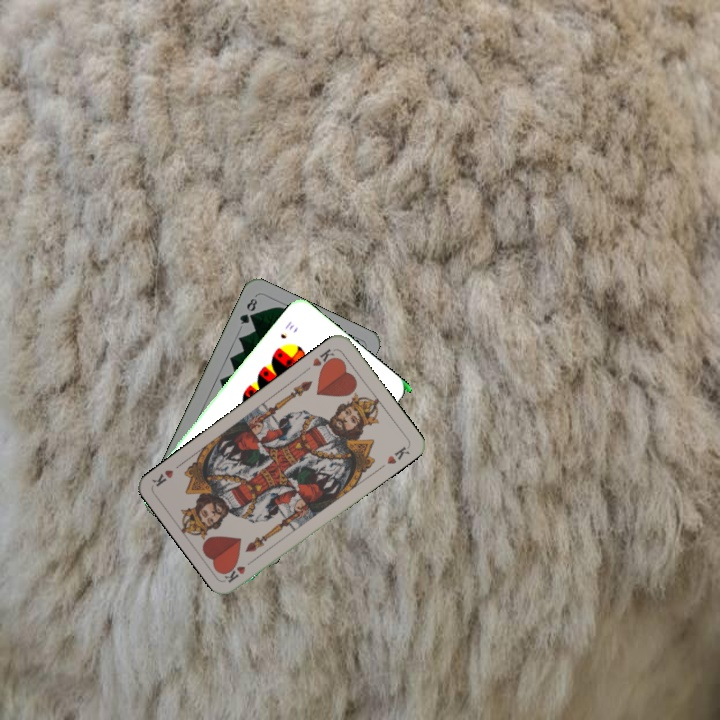G8: (235, 294, 260, 327)
HK: (221, 554, 258, 585), (309, 345, 339, 372)
S10: (276, 317, 297, 341)
